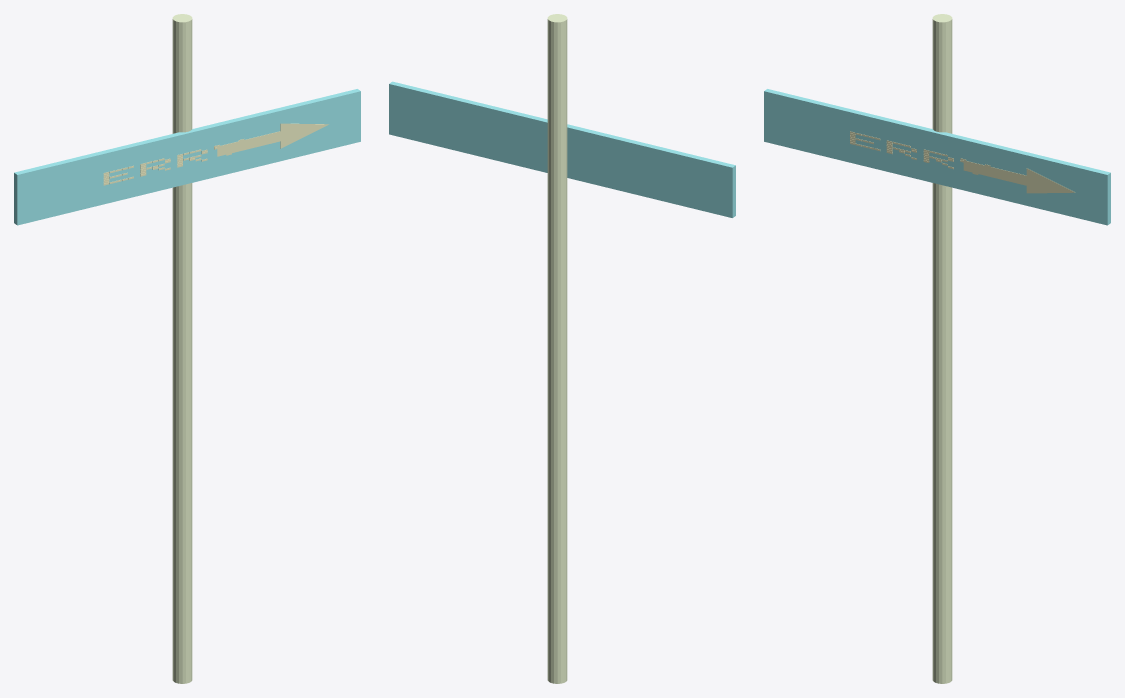
Rendered from sign_ferry_arrow_right.glb.
3 views of the same model, side by side, from view 1: azimuth 30°, elevation 25°; view 2: azimuth 150°, elevation 25°; view 3: azimuth 330°, elevation 25° (orthographic).
Parts seen in each view (by area): view 1: plate_base_00, pole, layer_1_64, layer_1_65; view 2: plate_base_00, pole; view 3: plate_base_00, pole, layer_1_64, layer_1_65.
Part boxes in pixels (x1,y1,x2,y2): plate_base_00: (14, 89, 360, 225); pole: (172, 14, 192, 683); layer_1_64: (217, 131, 280, 156); layer_1_65: (280, 123, 328, 148); plate_base_00: (389, 81, 735, 217); pole: (547, 14, 567, 683); plate_base_00: (764, 89, 1110, 225); pole: (932, 14, 952, 683); layer_1_64: (963, 160, 1026, 185); layer_1_65: (1026, 168, 1075, 193).
Bounding box in the file's own units: 1.2 × 2.2 × 0.071.
